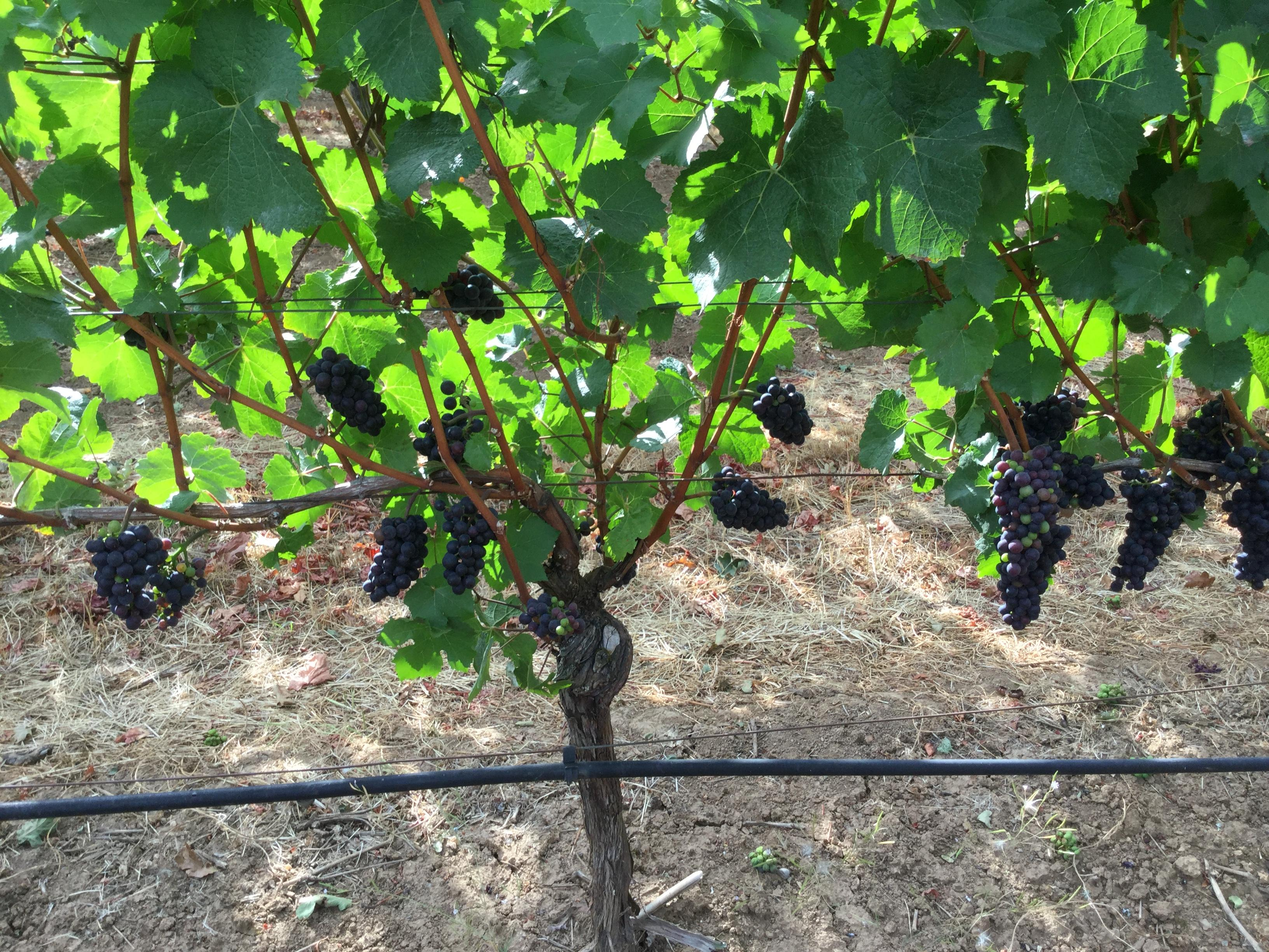leaf: (131, 5, 324, 244), (825, 46, 1024, 260), (1022, 2, 1185, 200), (671, 110, 795, 306), (780, 100, 864, 273), (313, 0, 441, 101), (564, 43, 670, 156), (497, 10, 597, 125), (1033, 195, 1127, 300), (1152, 168, 1248, 265), (374, 199, 472, 293), (695, 0, 798, 84), (35, 146, 124, 238), (199, 322, 290, 410), (385, 112, 481, 195), (574, 234, 663, 322), (917, 0, 1059, 55), (1203, 24, 1268, 144), (15, 398, 113, 476), (916, 296, 997, 390), (579, 158, 667, 244), (1197, 128, 1268, 222), (1112, 243, 1196, 316), (71, 327, 156, 399), (1202, 257, 1268, 343), (57, 0, 172, 48), (1116, 341, 1175, 430), (0, 340, 66, 418), (0, 278, 74, 345), (181, 432, 246, 502), (991, 338, 1064, 400), (501, 503, 558, 581), (568, 0, 662, 45), (858, 389, 908, 473), (1180, 331, 1251, 390), (10, 462, 99, 509), (944, 240, 1005, 307), (262, 446, 335, 498), (0, 204, 53, 272), (1180, 0, 1268, 39), (136, 444, 178, 502), (437, 2, 465, 32), (1101, 368, 1114, 392), (49, 374, 57, 379), (102, 319, 110, 324), (293, 354, 302, 358), (446, 4, 449, 6), (337, 198, 337, 200)
